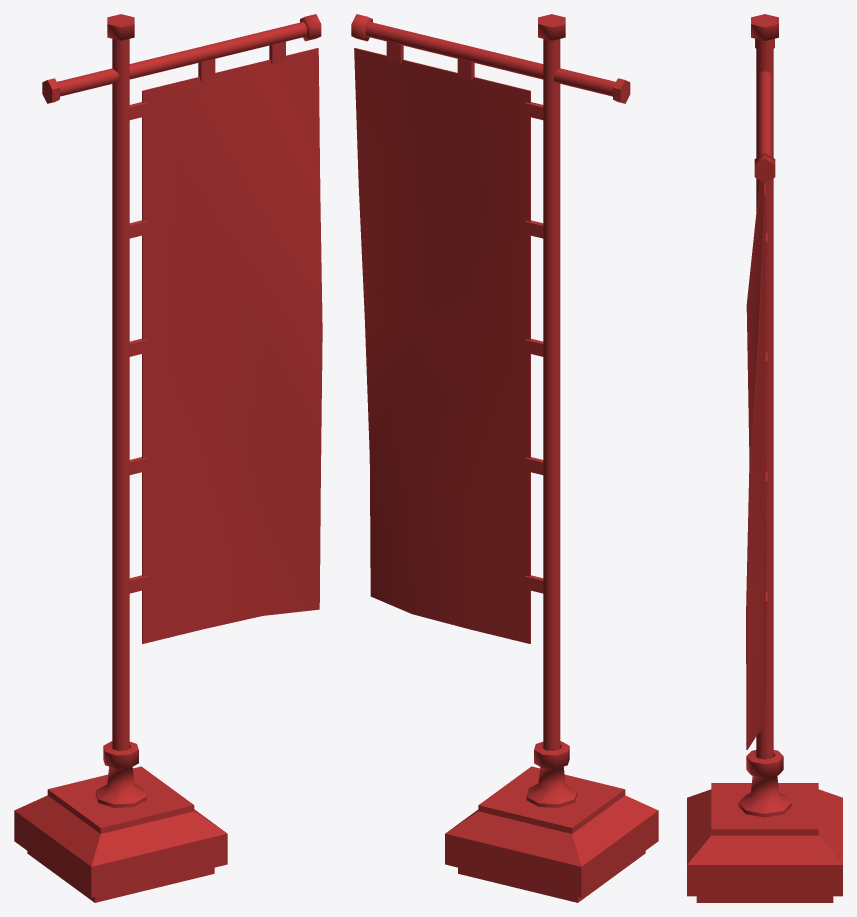
The model's file is SM_flag_shop_01.fbx.
3 renders of one model, left to right at view 1: azimuth 30°, elevation 25°; view 2: azimuth 150°, elevation 25°; view 3: azimuth 270°, elevation 25°, orthographic.
Parts seen in each view (by area): view 1: Box491; view 2: Box491; view 3: Box491.
Part boxes in pixels (x1,y1,x2,y2): Box491: (14, 14, 322, 902); Box491: (351, 14, 658, 902); Box491: (687, 14, 842, 902).
Size of the model in its own units: 40.87 by 121 by 20.14.
